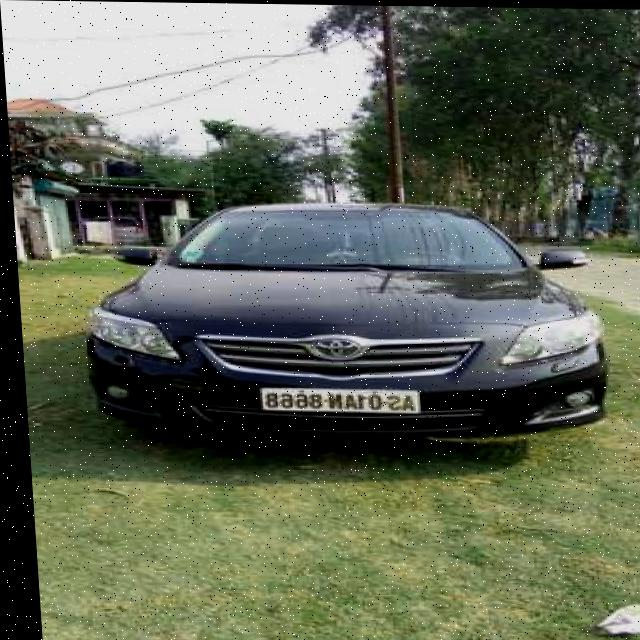plate: (249, 383, 422, 416)
